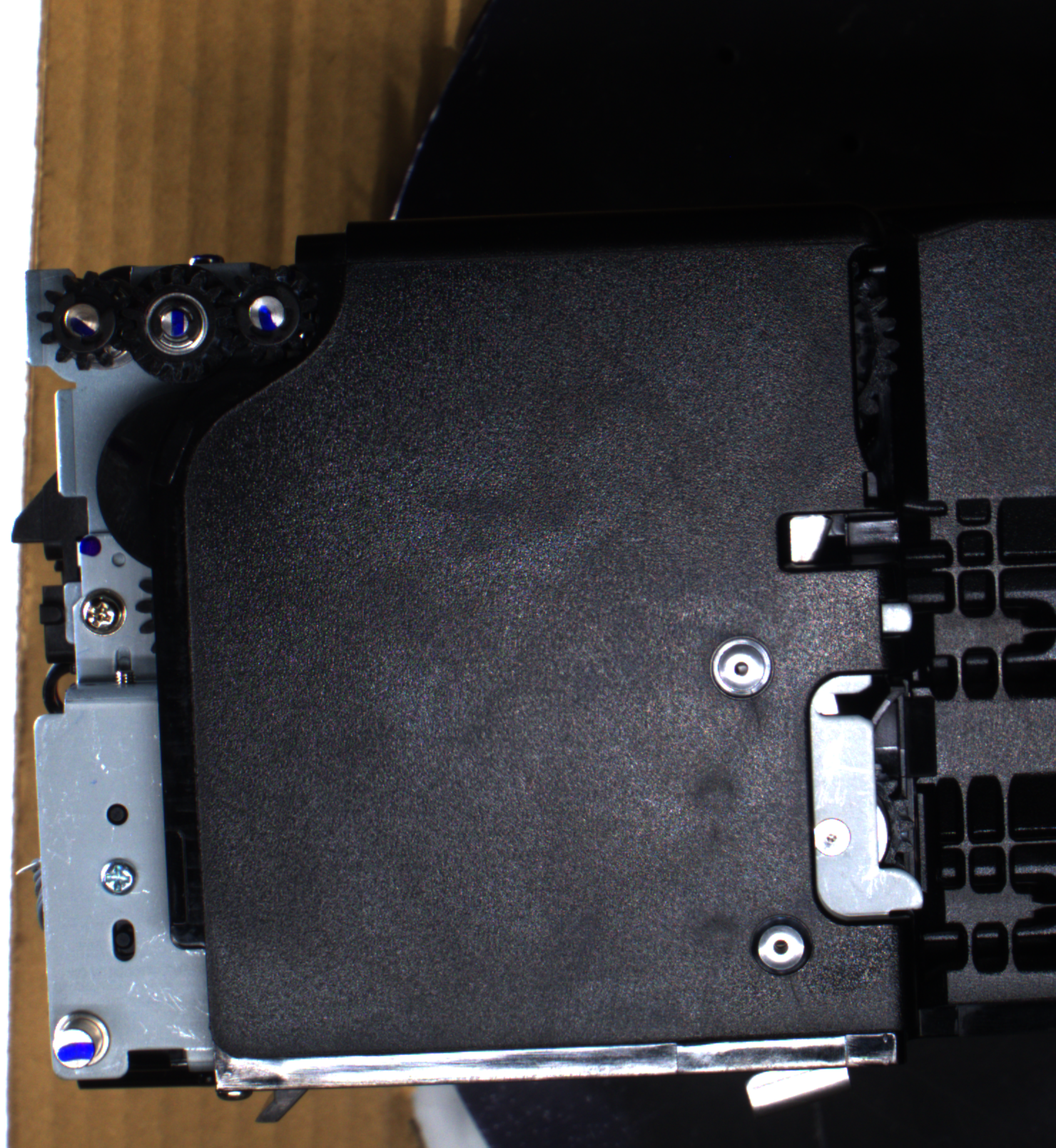centre_pin_presence: (739, 1046, 856, 1115)
centre_plate_presence: (802, 666, 932, 930)
centre_screw_presence: (706, 629, 778, 705), (745, 907, 816, 981)
gear1_presence: (36, 269, 136, 371)
gear2_presence: (120, 264, 233, 384)
gear3_presence: (214, 261, 316, 367)
side_screw_presence: (76, 585, 128, 637), (96, 856, 140, 898)
slanting_pin_presence: (46, 1006, 119, 1076)
